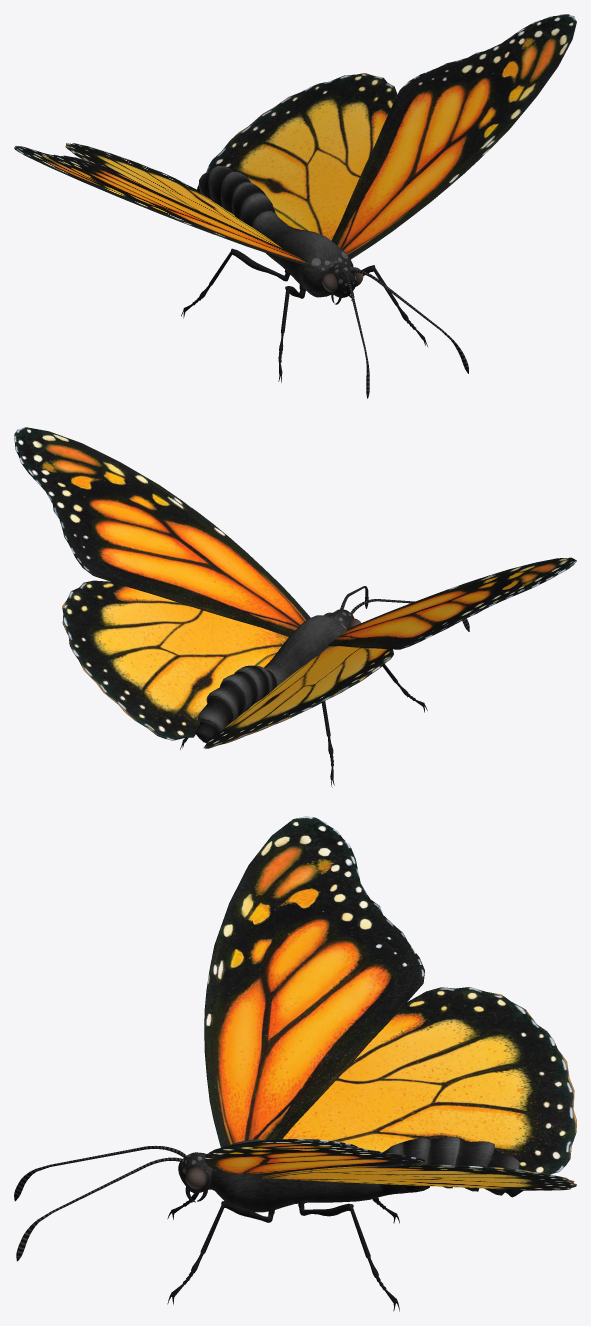
Rendered from Monarch Butterfly.fbx.
The picture shows the model from 3 angles, top to bottom: view 1: azimuth 30°, elevation 25°; view 2: azimuth 150°, elevation 25°; view 3: azimuth 270°, elevation 25°; orthographic projection. The views are drawn at different scales.
Visible parts, largest first — view 1: node_id258; view 2: node_id258; view 3: node_id258.
Part boxes in pixels (box(x1,y1,x2,y2)): node_id258: box(14, 14, 576, 398); node_id258: box(14, 427, 576, 787); node_id258: box(14, 816, 576, 1311).
Bounding box in the file's own units: 0.512 × 0.2151 × 0.3778.
Materials: 1 (1 with a texture image).
